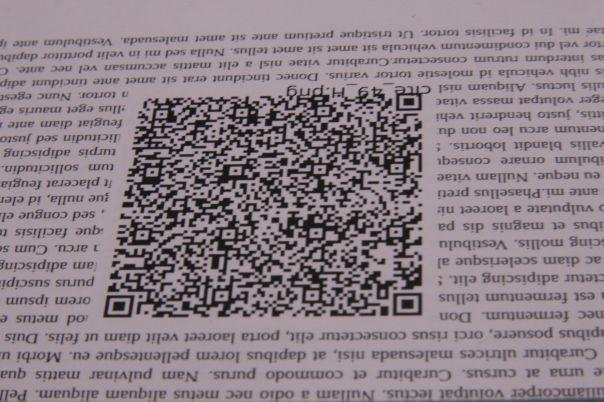Finder pattern: (389, 289, 427, 321), (393, 89, 427, 116)
